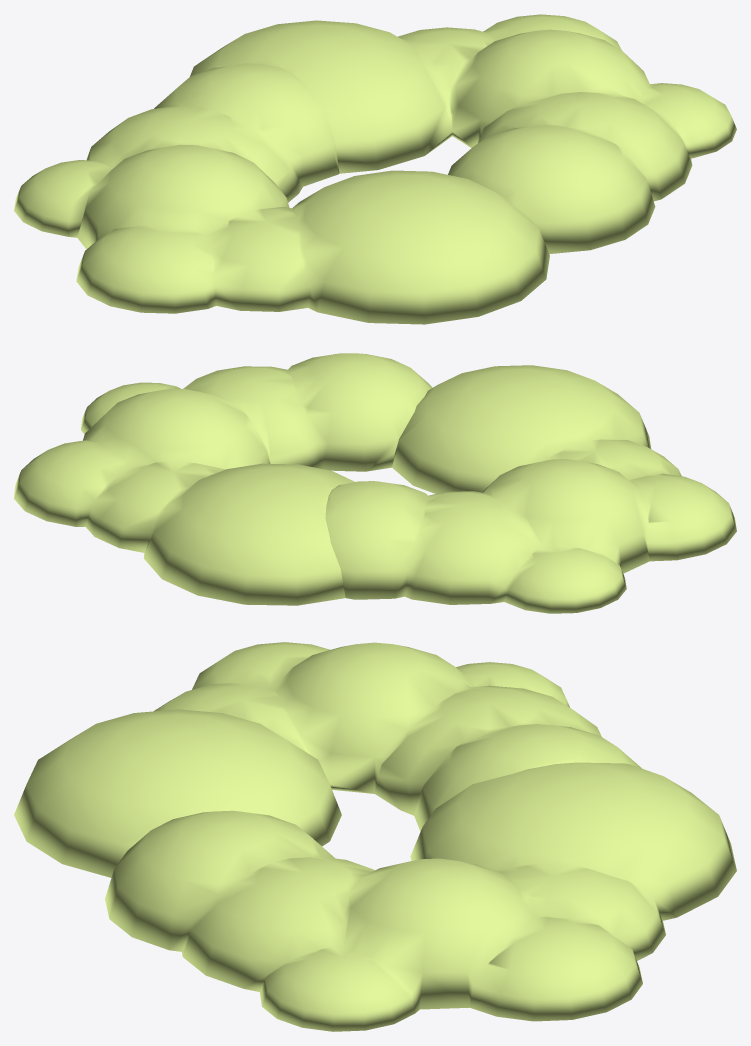
The model's file is wosk02.FBX.
The picture shows the model from 3 angles, top to bottom: view 1: azimuth 30°, elevation 25°; view 2: azimuth 150°, elevation 25°; view 3: azimuth 270°, elevation 25°; orthographic projection. The views are drawn at different scales.
Visible parts, largest first — view 1: Sphere002; view 2: Sphere002; view 3: Sphere002.
Boxes of the visible parts, x1,y1,x2,y2 form: Sphere002: [14, 14, 736, 324]; Sphere002: [14, 353, 736, 613]; Sphere002: [14, 642, 736, 1031].
Size of the model in its own units: 9.74 by 1.06 by 8.12.
